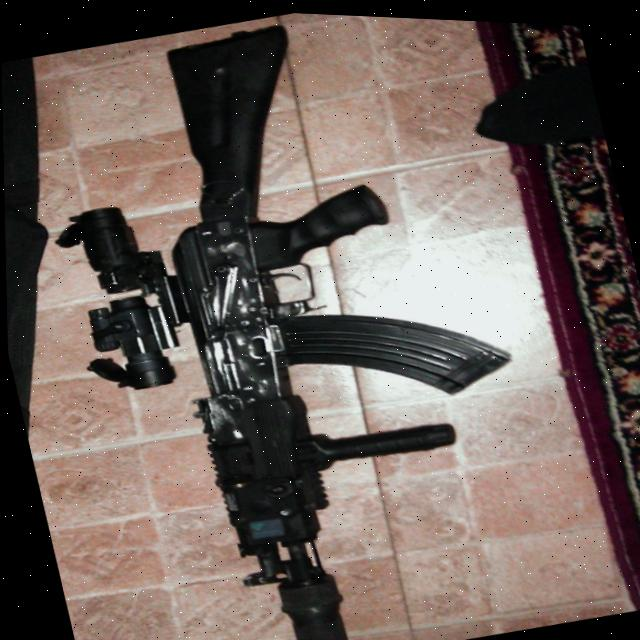firearm: (9, 0, 571, 640)
